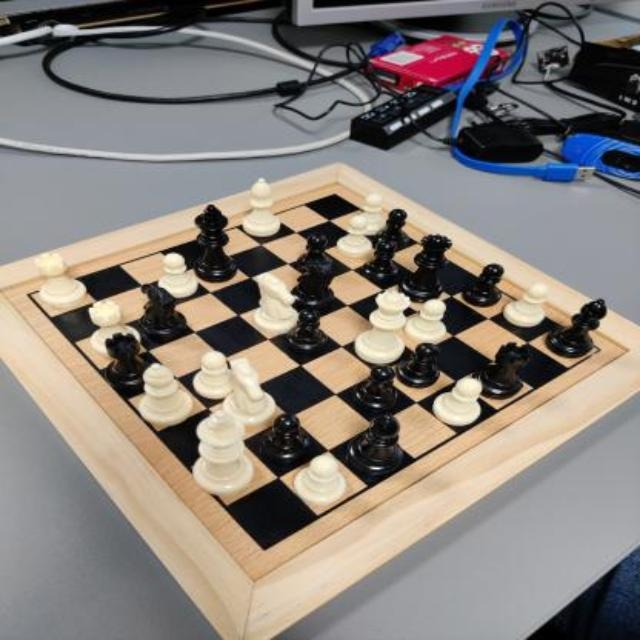black-bishop: (545, 297, 606, 358), (346, 412, 404, 475)
black-king: (194, 204, 238, 284)
black-knight: (138, 283, 188, 339), (291, 257, 337, 310)
black-pawn: (259, 412, 311, 461), (352, 364, 399, 411), (396, 341, 440, 388), (462, 262, 504, 308), (285, 309, 328, 353), (360, 239, 400, 282), (296, 232, 334, 273), (375, 208, 409, 249)
black-queen: (397, 234, 452, 303)
black-rook: (472, 342, 532, 400), (104, 332, 156, 392)
white-bishop: (139, 362, 193, 425), (242, 178, 282, 238)
white-king: (192, 410, 255, 494)
white-knight: (223, 359, 275, 425), (253, 272, 300, 332)
white-pawn: (294, 455, 346, 505), (192, 350, 244, 399), (433, 377, 483, 427), (502, 282, 548, 328), (403, 298, 446, 345), (158, 252, 198, 299), (337, 215, 373, 258), (358, 193, 386, 236)
white-queen: (354, 290, 412, 363)
white-rook: (87, 299, 142, 357), (35, 253, 87, 309)
